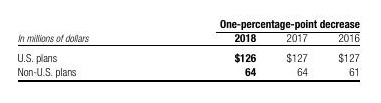table: (0, 0, 381, 103)
